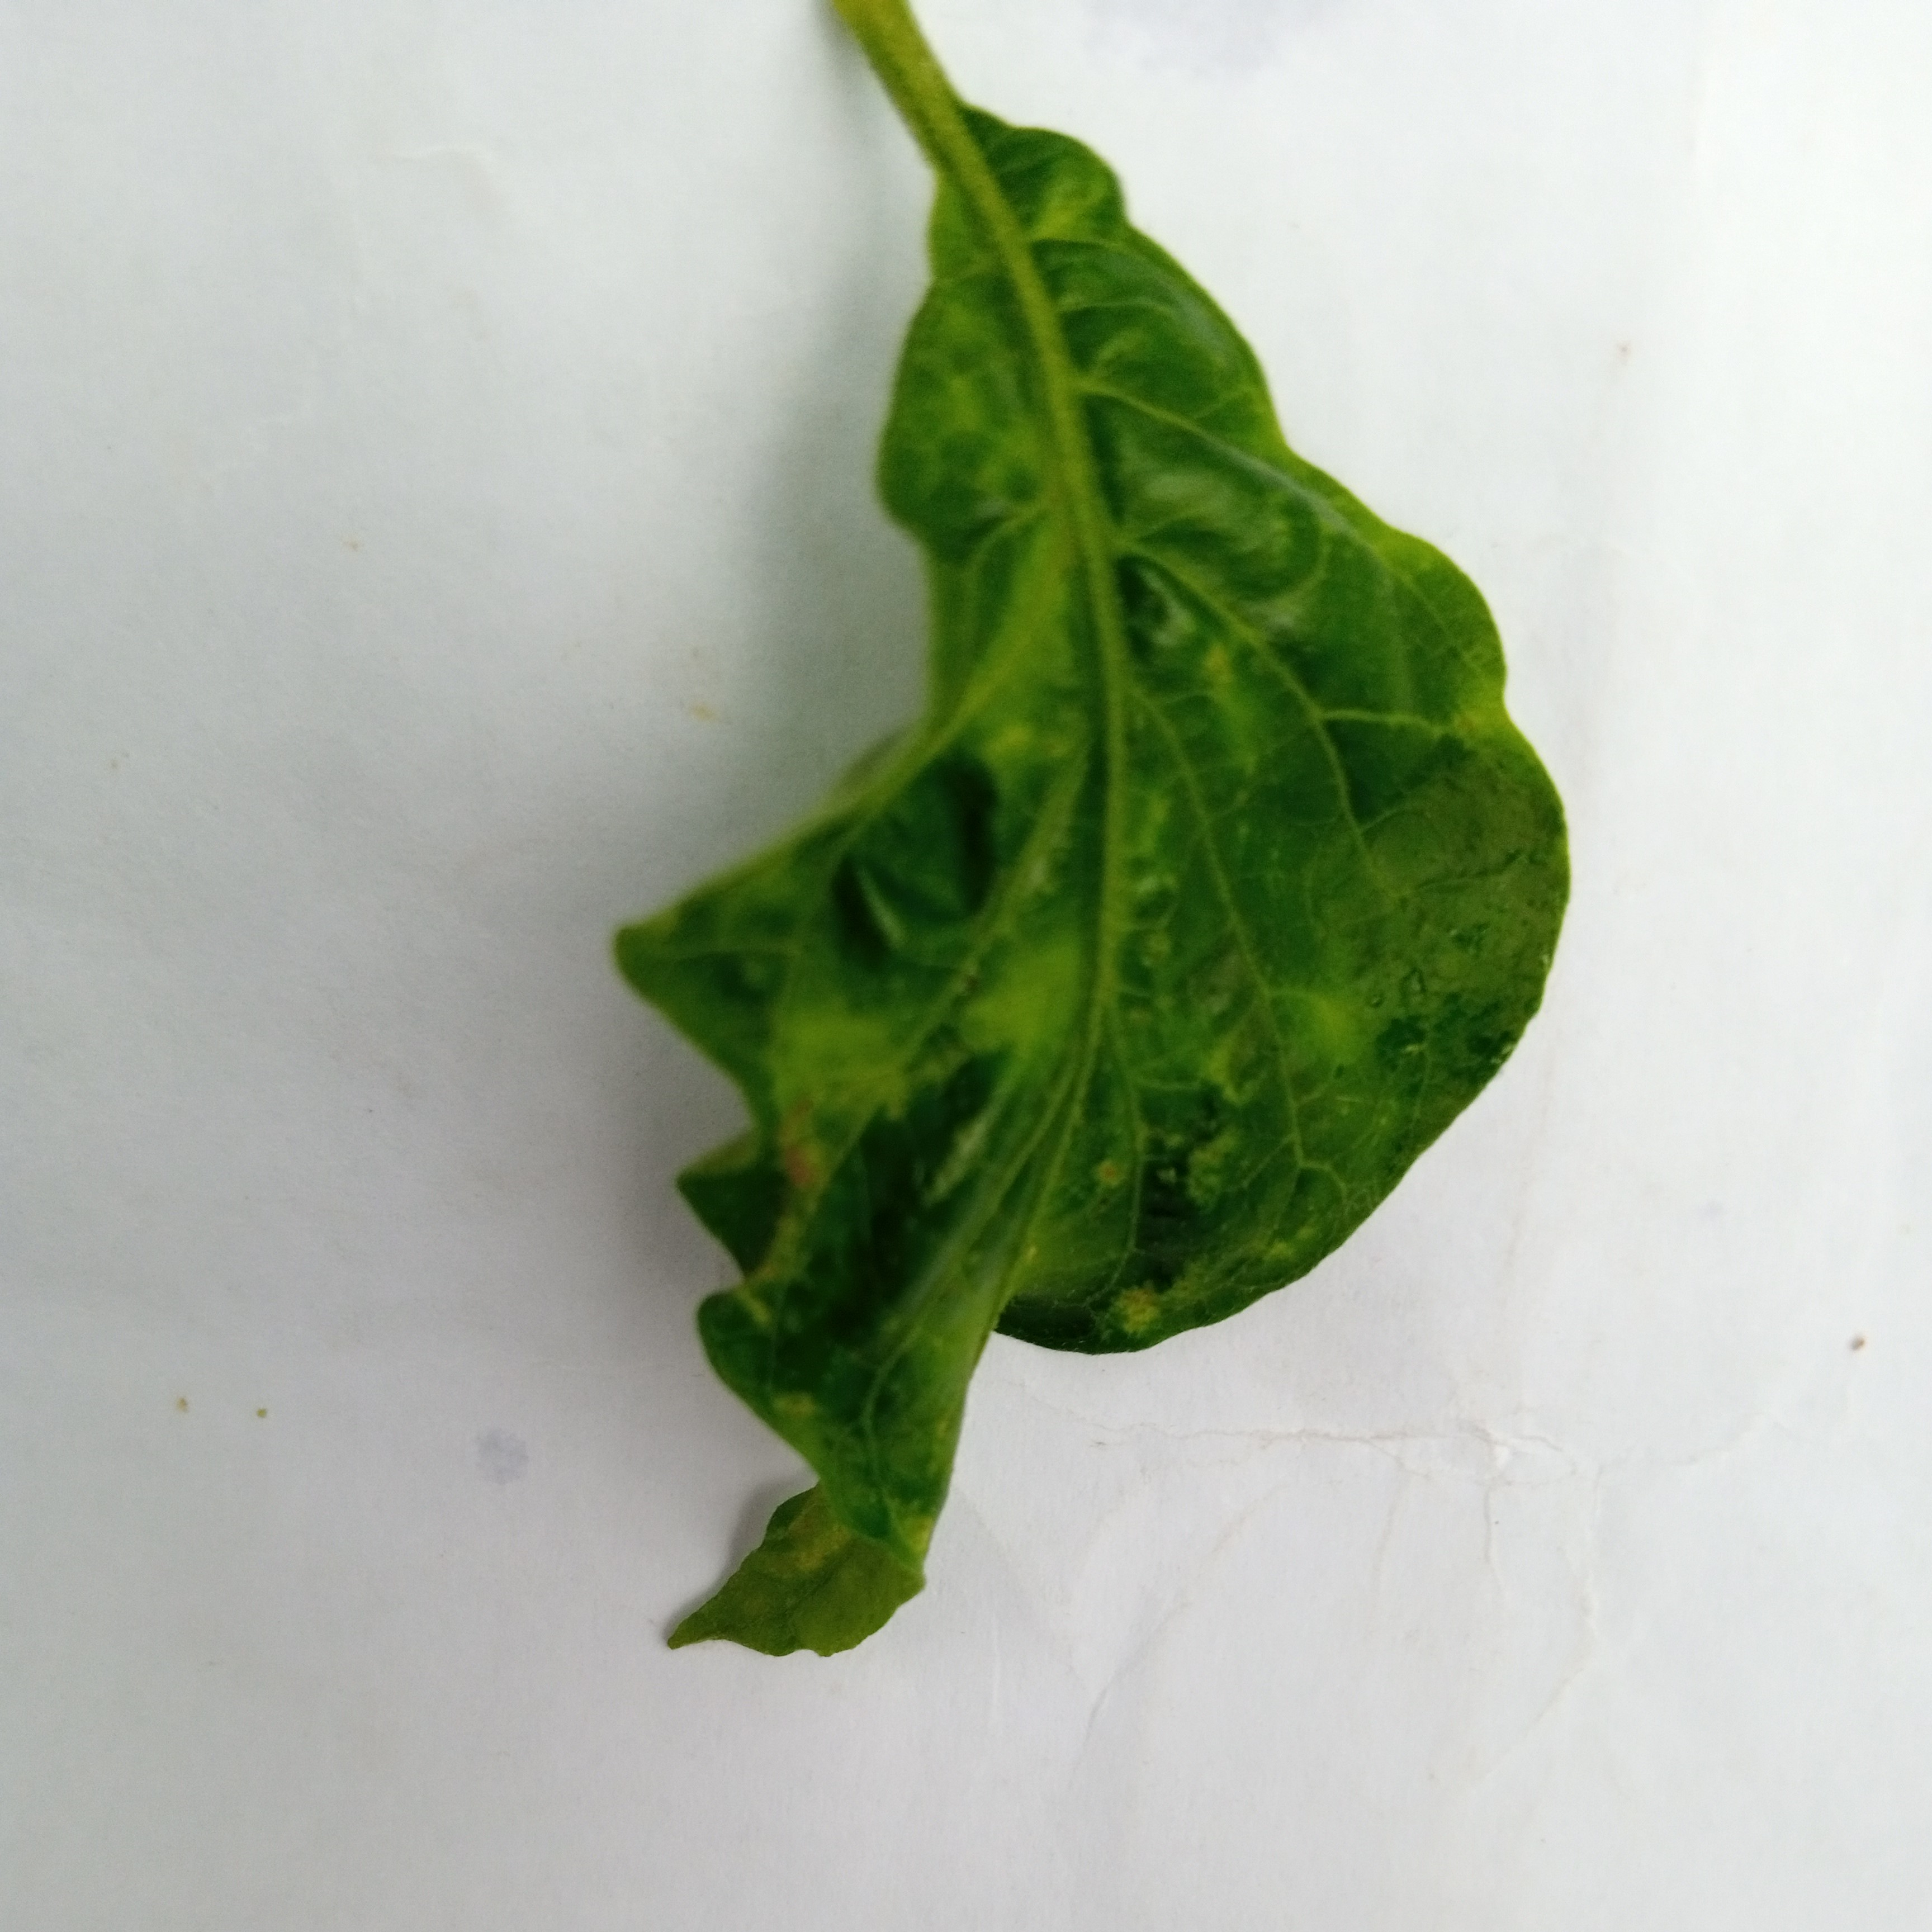Leaf: (465, 69, 1684, 1721)
